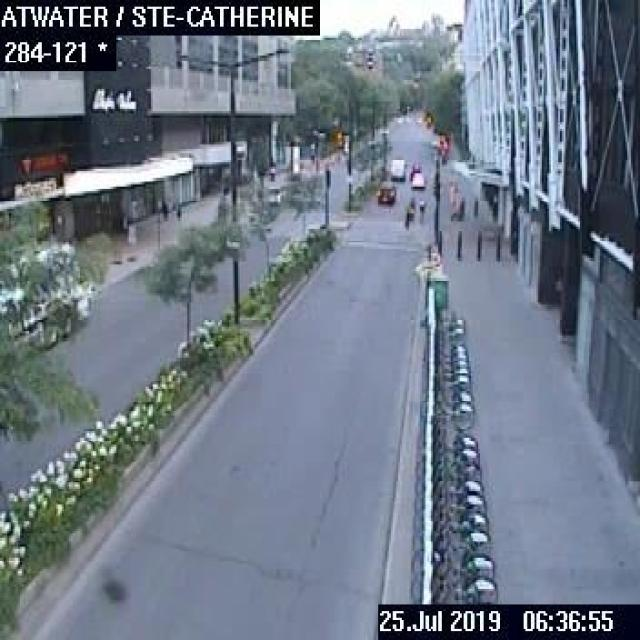cyclist: (417, 194, 425, 224)
pedestrian: (447, 196, 464, 227), (404, 195, 414, 229), (469, 191, 478, 222)
vehicle: (0, 240, 100, 358), (389, 157, 406, 180), (375, 182, 393, 202), (265, 183, 282, 203), (409, 171, 424, 187), (411, 158, 421, 170)
